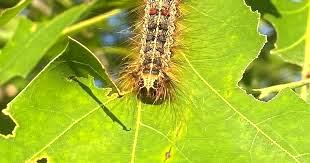Caterpillar: (120, 0, 191, 106)
